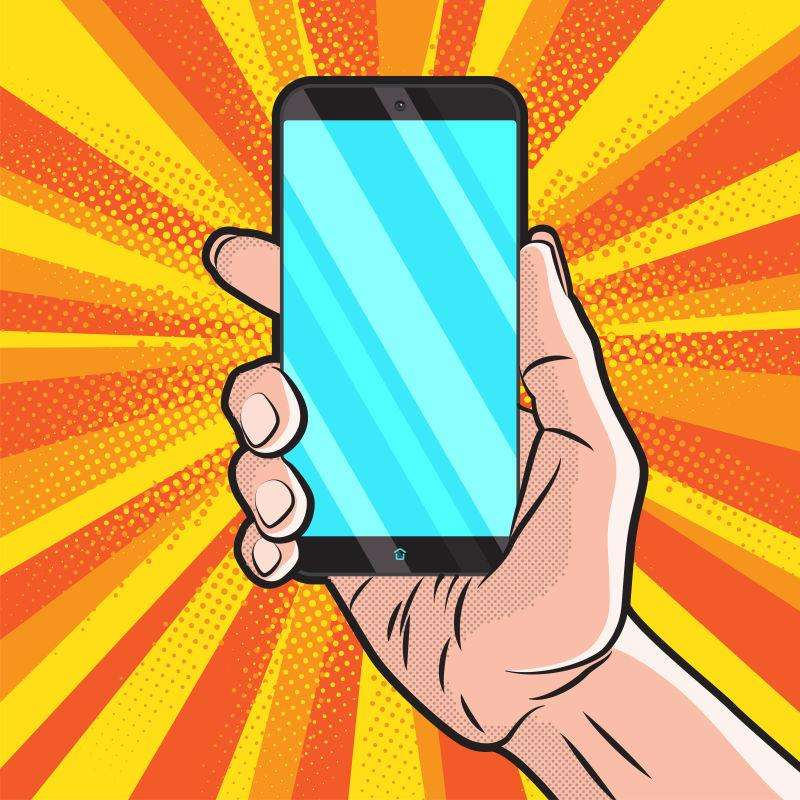phone: (199, 68, 656, 746)
